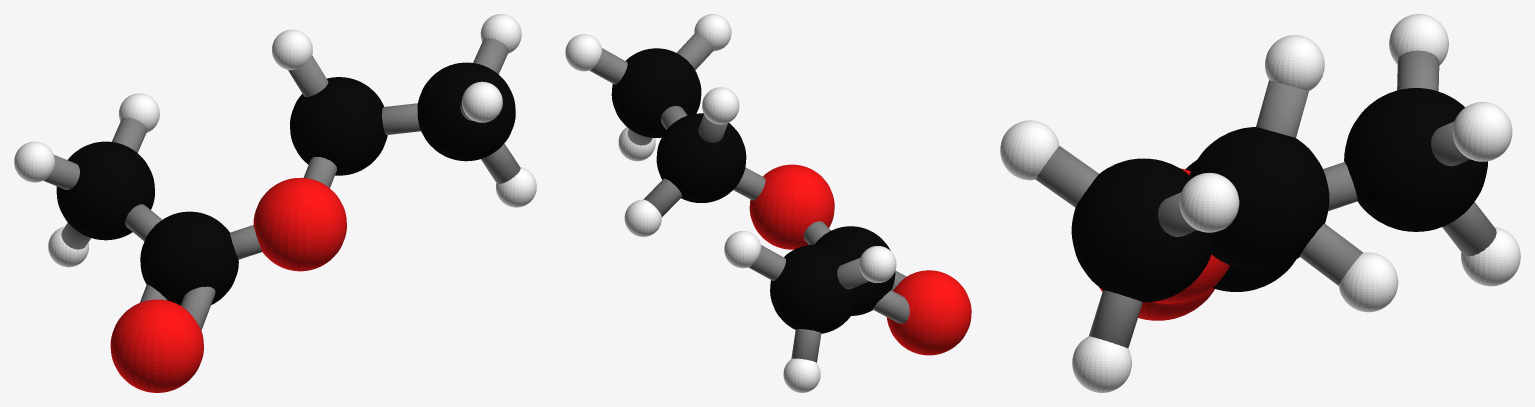
The model's file is ACETATO VINILO.obj.
The picture shows the model from 3 angles, left to right: view 1: azimuth 30°, elevation 25°; view 2: azimuth 150°, elevation 25°; view 3: azimuth 270°, elevation 25°; orthographic projection. The views are drawn at different scales.
Parts seen in each view (by area): view 1: Carbon_ball_Sphere, Oxygen_ball_Sphere.002, Hydrogen_ball_Sphere.001, Stick_Cylinder.008_Cylinder.008, Stick_Cylinder.009_Cylinder.009, Stick_Cylinder.005_Cylinder.005, Stick_Cylinder.012_Cylinder.012, Stick_Cylinder.004_Cylinder.004, Stick_Cylinder_Cylinder, Stick_Cylinder.001_Cylinder.001, Stick_Cylinder.002_Cylinder.002, Stick_Cylinder.010_Cylinder.010 (+2 smaller); view 2: Carbon_ball_Sphere, Oxygen_ball_Sphere.002, Hydrogen_ball_Sphere.001, Stick_Cylinder.003_Cylinder.003, Stick_Cylinder.013_Cylinder.013, Stick_Cylinder.004_Cylinder.004, Stick_Cylinder.007_Cylinder.007, Stick_Cylinder_Cylinder, Stick_Cylinder.011_Cylinder.011, Stick_Cylinder.006_Cylinder.006, Stick_Cylinder.002_Cylinder.002, Stick_Cylinder.009_Cylinder.009 (+2 smaller); view 3: Carbon_ball_Sphere, Hydrogen_ball_Sphere.001, Oxygen_ball_Sphere.002, Stick_Cylinder.009_Cylinder.009, Stick_Cylinder.005_Cylinder.005, Stick_Cylinder.007_Cylinder.007, Stick_Cylinder.011_Cylinder.011, Stick_Cylinder.003_Cylinder.003, Stick_Cylinder.002_Cylinder.002, Stick_Cylinder.001_Cylinder.001, Stick_Cylinder_Cylinder, Stick_Cylinder.004_Cylinder.004.
Boxes of the visible parts, x1,y1,x2,y2 form: Carbon_ball_Sphere: (56, 62, 515, 305); Oxygen_ball_Sphere.002: (110, 177, 346, 392); Hydrogen_ball_Sphere.001: (14, 14, 536, 267); Stick_Cylinder.008_Cylinder.008: (382, 103, 420, 134); Stick_Cylinder.009_Cylinder.009: (288, 55, 328, 96); Stick_Cylinder.005_Cylinder.005: (481, 143, 520, 183); Stick_Cylinder.012_Cylinder.012: (180, 286, 215, 330); Stick_Cylinder.004_Cylinder.004: (473, 38, 508, 74); Stick_Cylinder_Cylinder: (112, 117, 147, 152); Stick_Cylinder.001_Cylinder.001: (125, 204, 162, 241); Stick_Cylinder.002_Cylinder.002: (43, 155, 79, 189); Stick_Cylinder.010_Cylinder.010: (230, 225, 261, 259); Carbon_ball_Sphere: (611, 48, 895, 333); Oxygen_ball_Sphere.002: (749, 164, 971, 355); Hydrogen_ball_Sphere.001: (565, 14, 896, 392); Stick_Cylinder.003_Cylinder.003: (791, 329, 821, 362); Stick_Cylinder.013_Cylinder.013: (873, 290, 909, 323); Stick_Cylinder.004_Cylinder.004: (589, 48, 627, 84); Stick_Cylinder.007_Cylinder.007: (643, 178, 681, 216); Stick_Cylinder_Cylinder: (749, 245, 785, 280); Stick_Cylinder.011_Cylinder.011: (677, 33, 713, 70); Stick_Cylinder.006_Cylinder.006: (733, 167, 765, 200); Stick_Cylinder.002_Cylinder.002: (837, 258, 869, 289); Stick_Cylinder.009_Cylinder.009: (698, 114, 727, 142); Carbon_ball_Sphere: (1071, 88, 1487, 302); Hydrogen_ball_Sphere.001: (1000, 14, 1520, 392); Oxygen_ball_Sphere.002: (1099, 168, 1229, 320); Stick_Cylinder.009_Cylinder.009: (1256, 80, 1308, 137); Stick_Cylinder.005_Cylinder.005: (1089, 290, 1142, 348); Stick_Cylinder.007_Cylinder.007: (1300, 223, 1363, 285); Stick_Cylinder.011_Cylinder.011: (1036, 146, 1098, 207); Stick_Cylinder.003_Cylinder.003: (1442, 202, 1496, 256); Stick_Cylinder.002_Cylinder.002: (1397, 50, 1439, 91); Stick_Cylinder.001_Cylinder.001: (1323, 162, 1357, 210); Stick_Cylinder_Cylinder: (1431, 121, 1470, 166); Stick_Cylinder.004_Cylinder.004: (1158, 192, 1196, 236).
Size of the model in its own units: 6.97 by 4.31 by 5.01.
